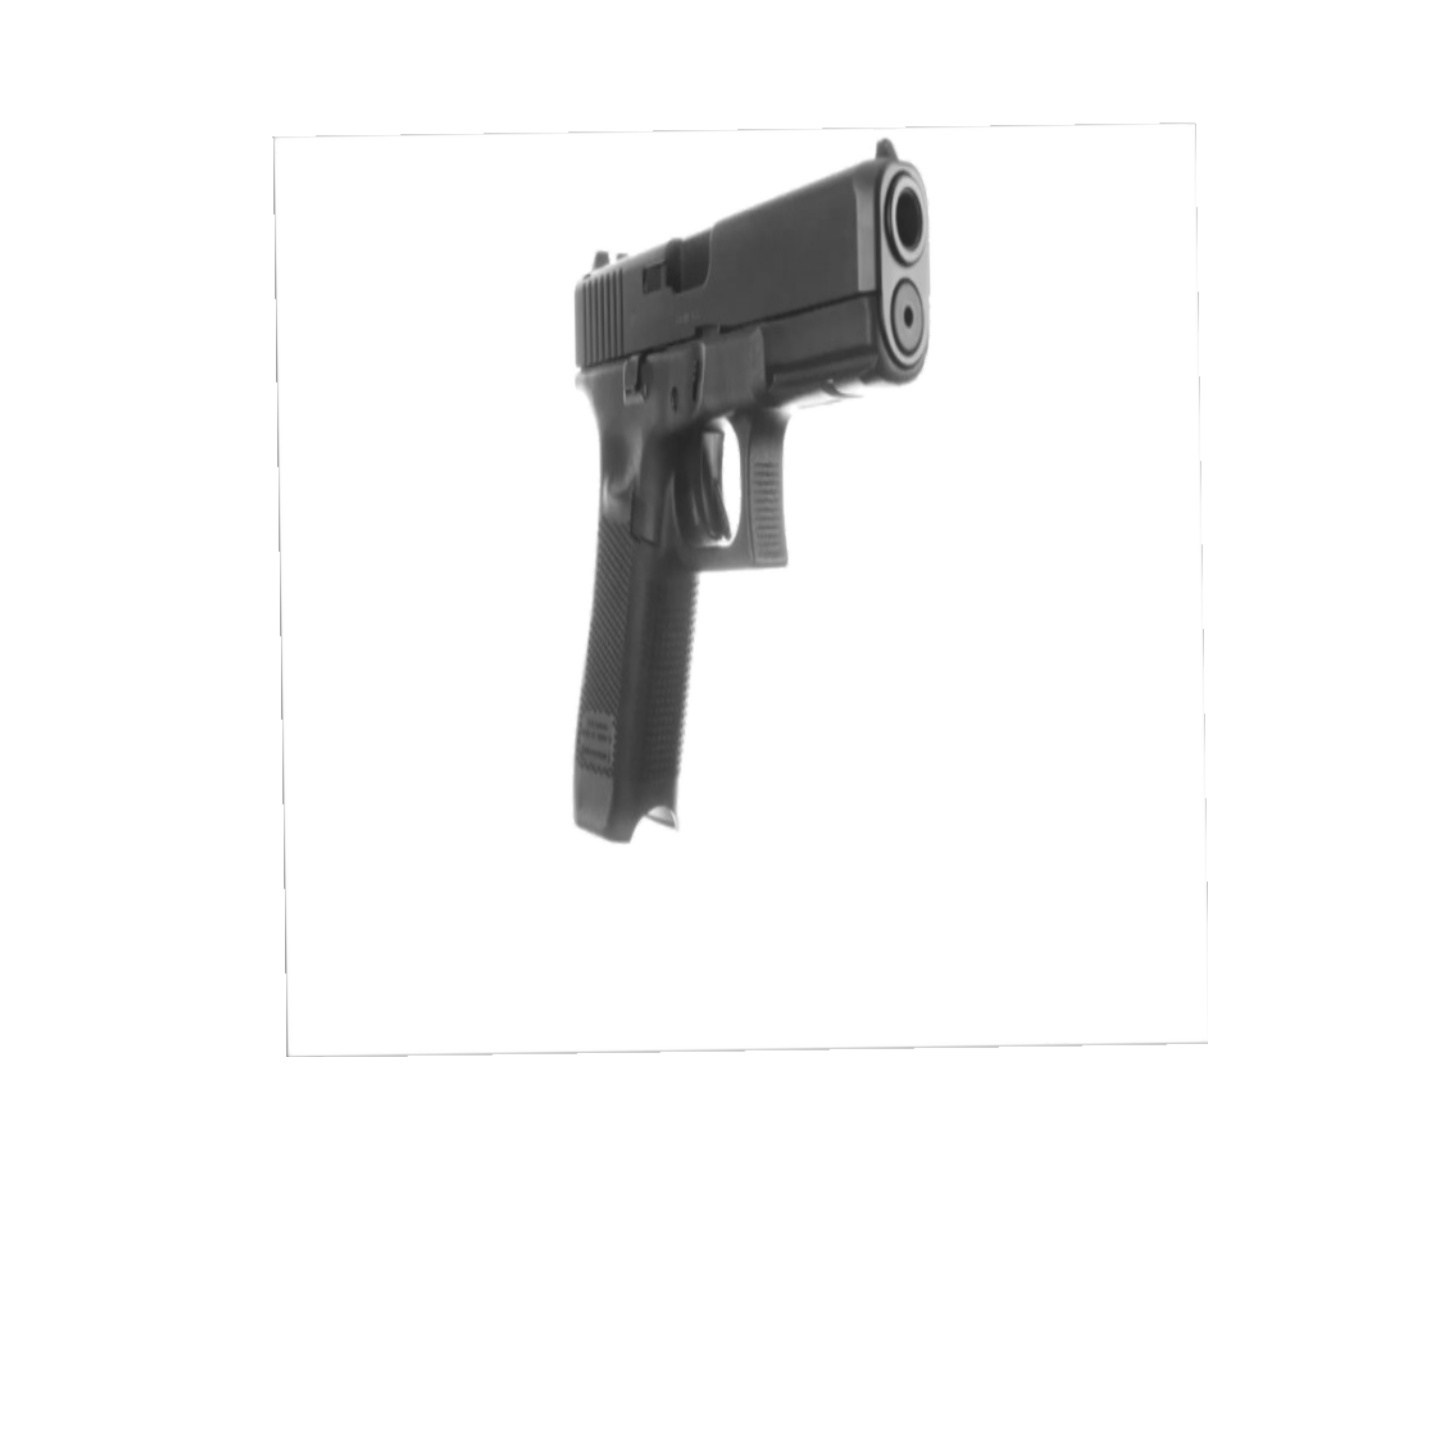gun: (561, 138, 930, 845)
